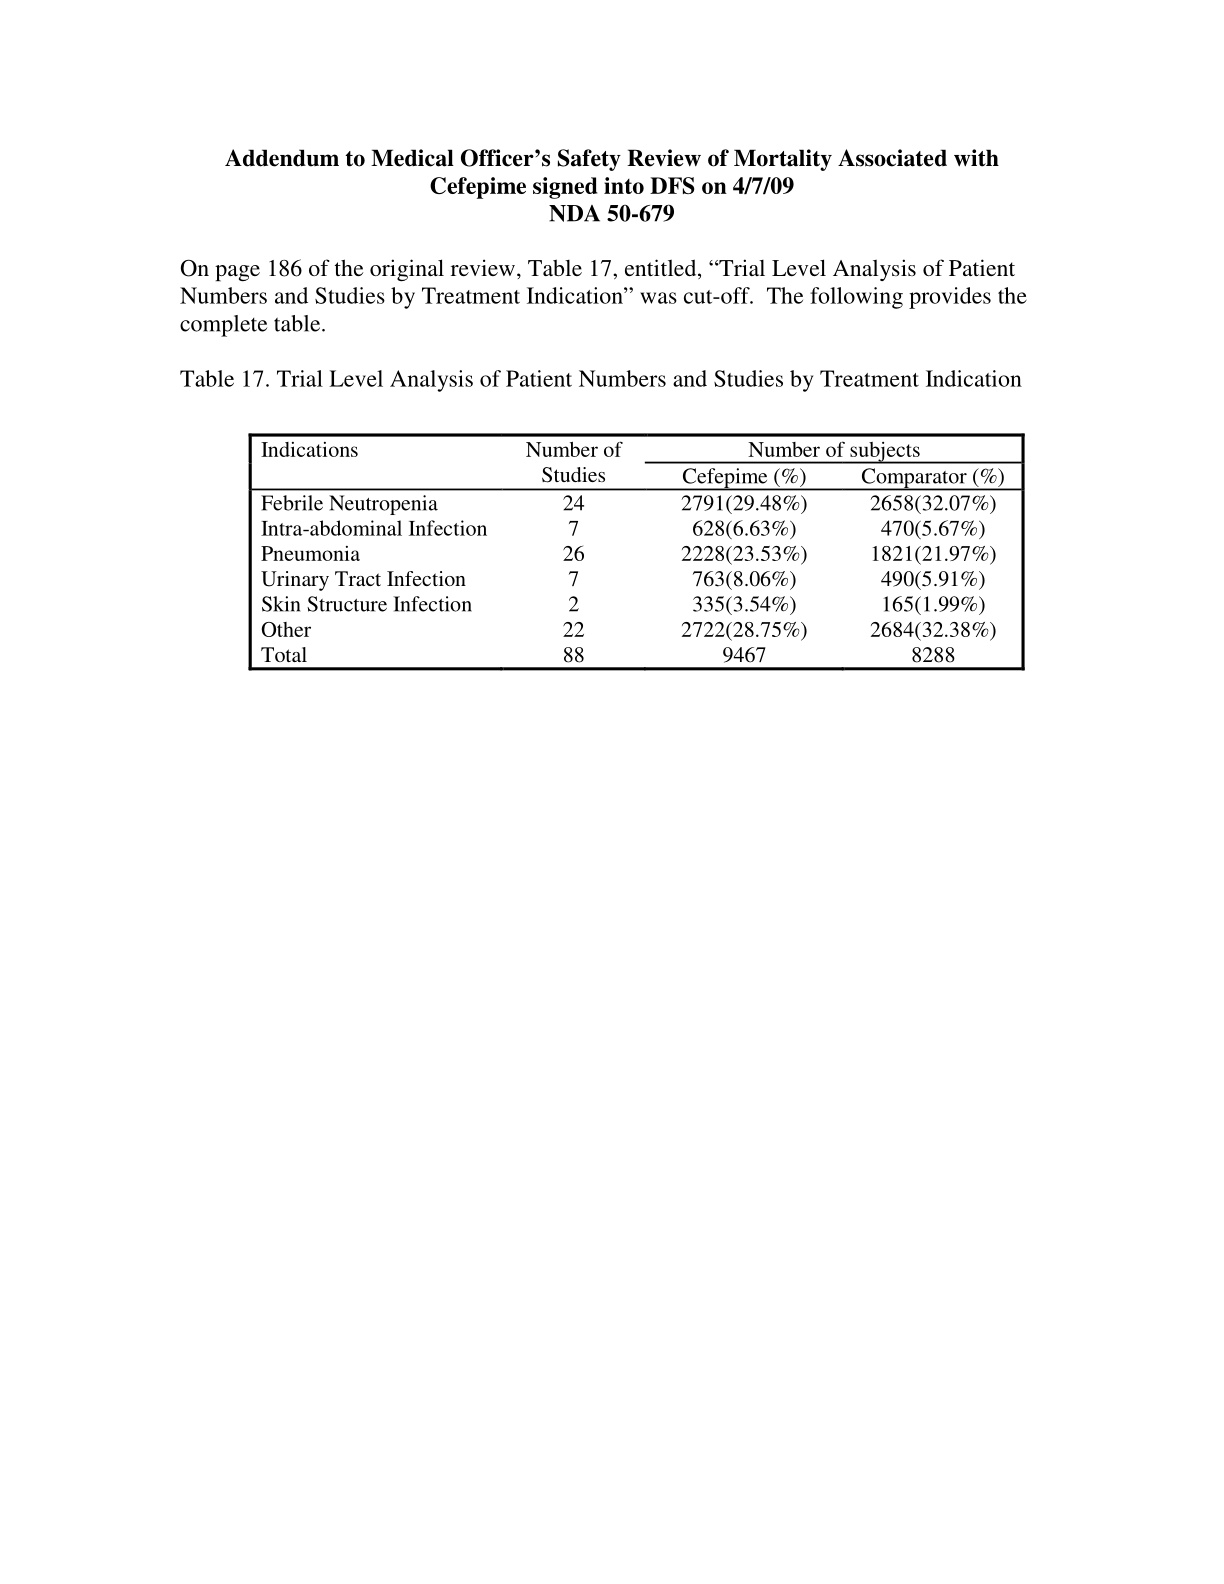partial_lined_merged_cells: (248, 433, 1025, 671)
